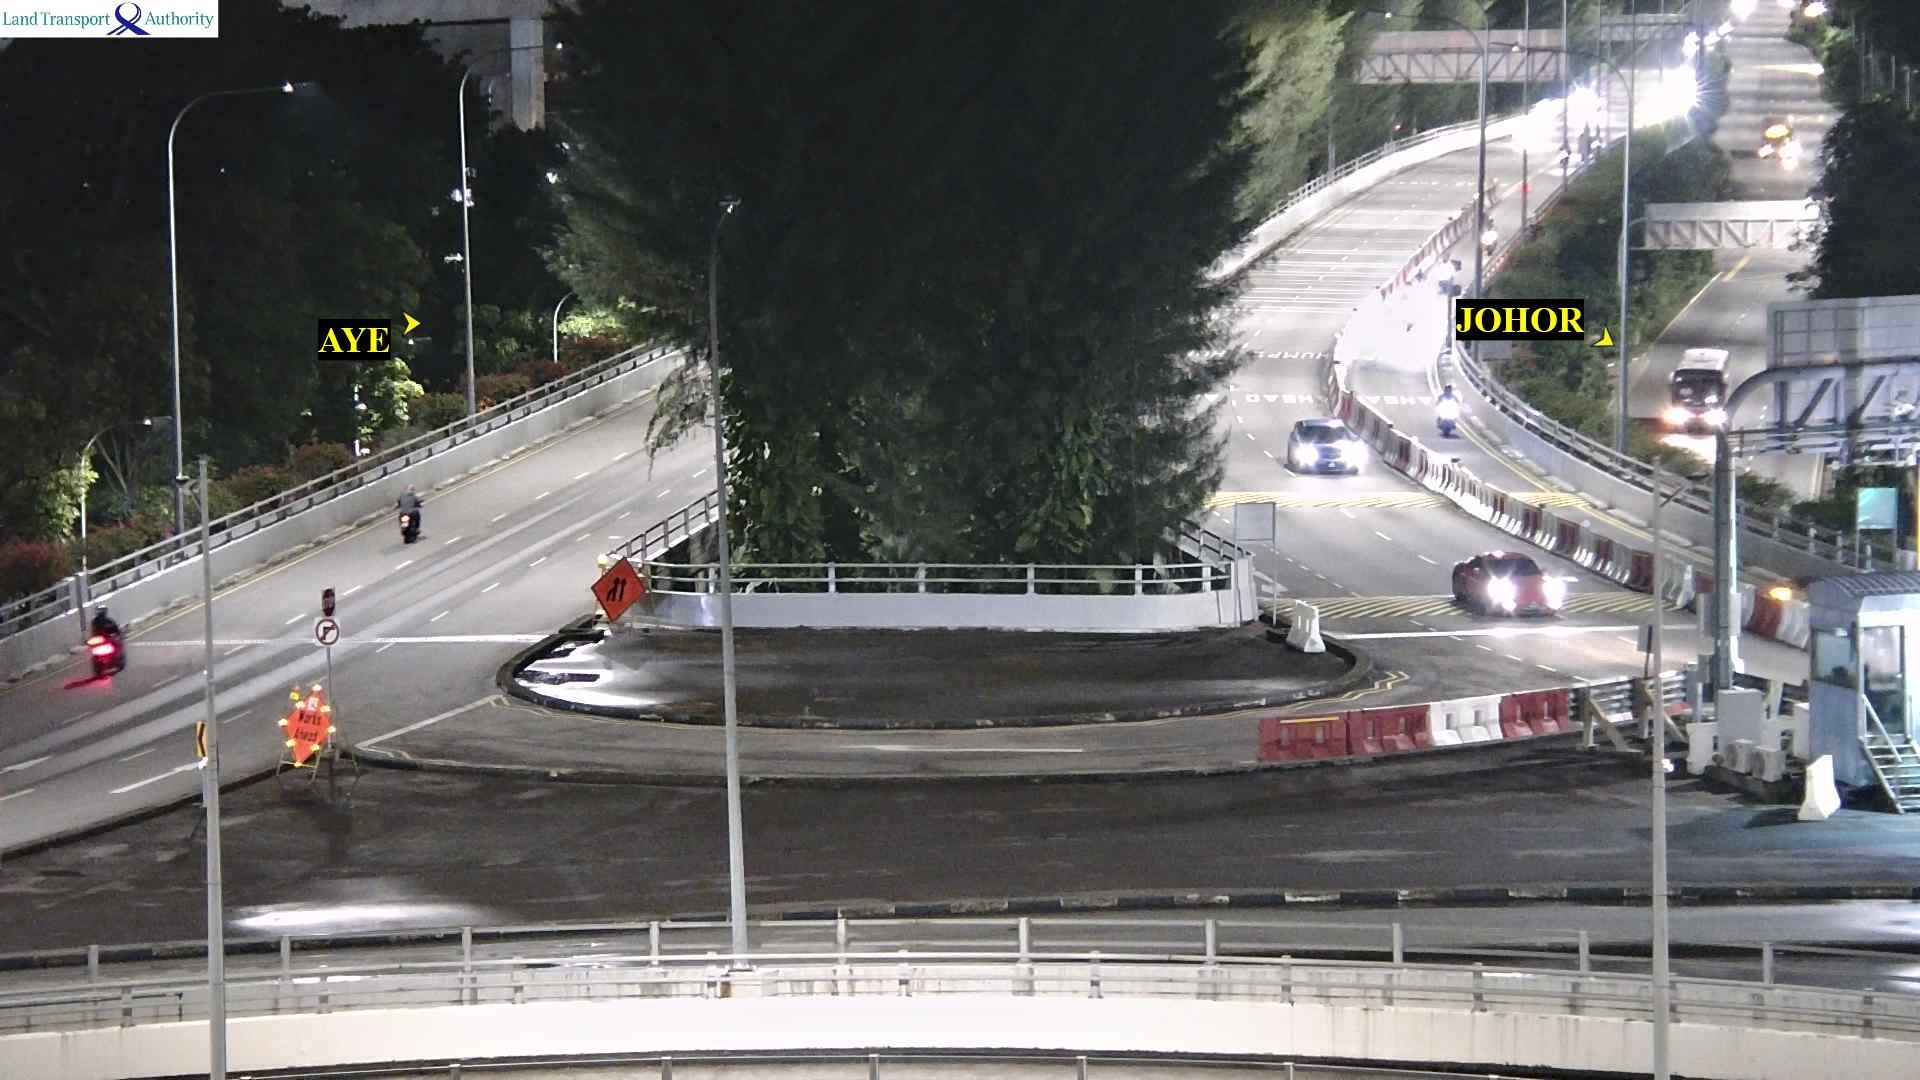vehicle-secondlink-johor: (1453, 554, 1580, 620), (1283, 421, 1362, 479), (1437, 390, 1466, 439), (1482, 212, 1499, 260), (1432, 251, 1452, 291)
vehicle-secondlink-singapore: (90, 612, 131, 676), (393, 487, 431, 541)
